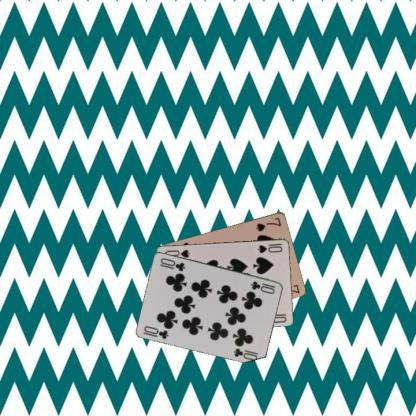10c: (248, 278, 277, 296), (142, 322, 170, 340)
10s: (255, 240, 284, 255)
7s: (254, 214, 283, 233)
